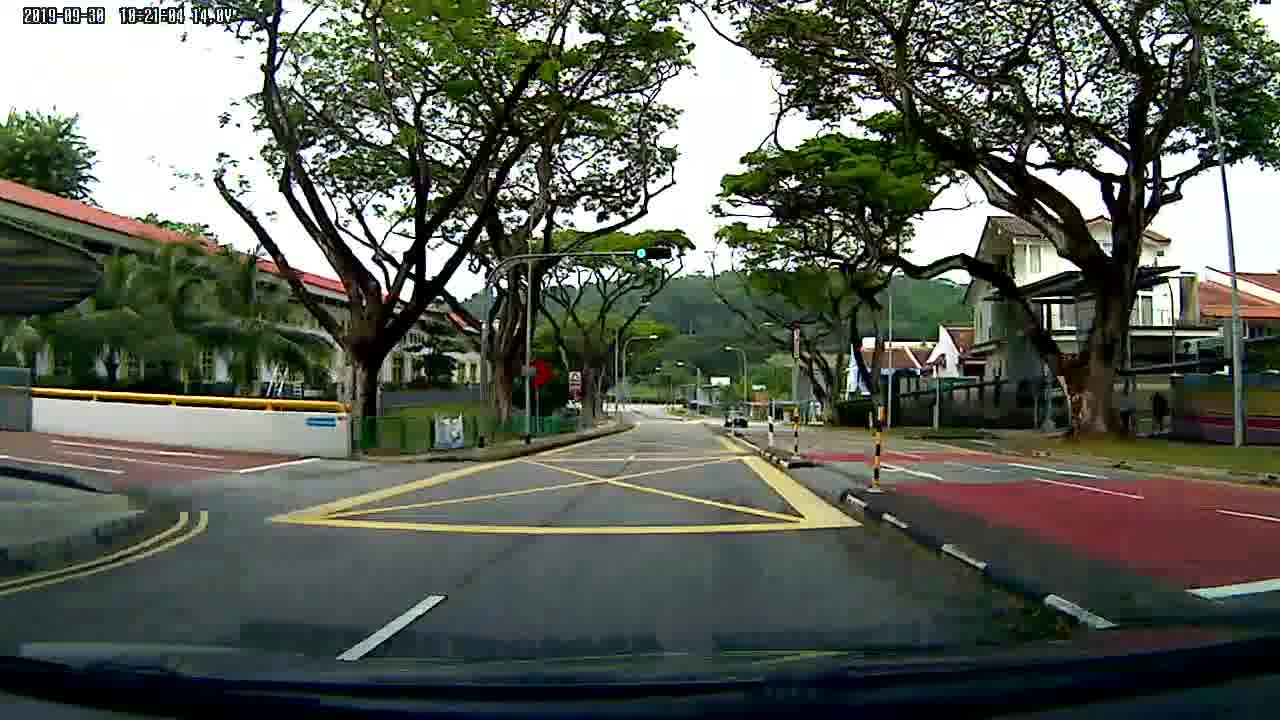car: (720, 408, 748, 431)
